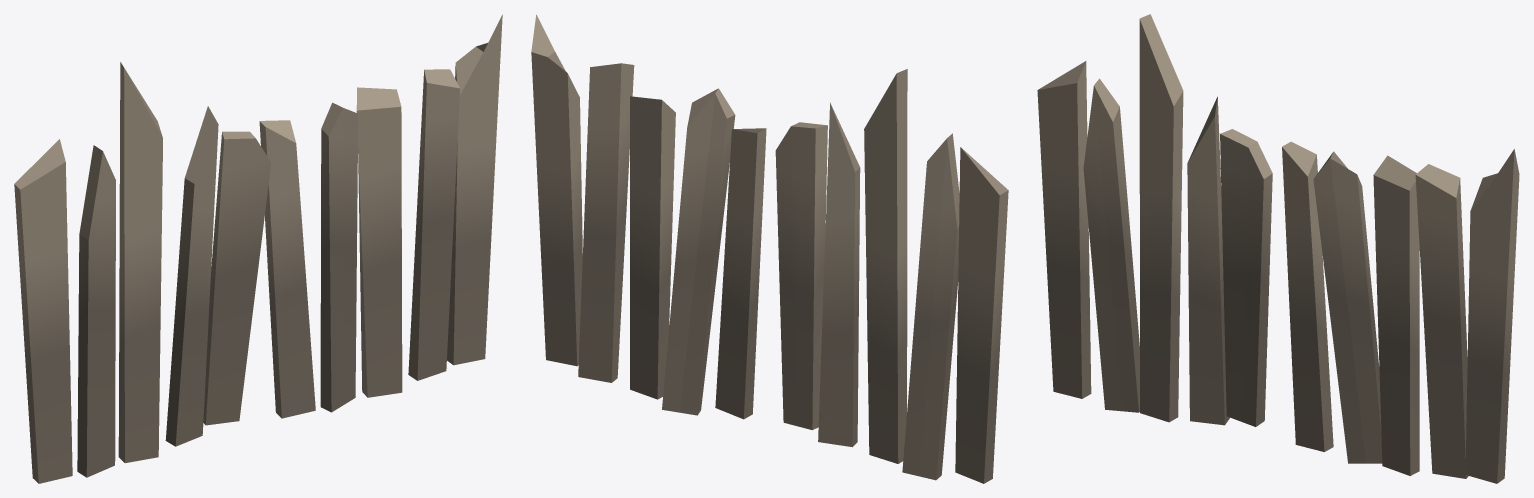
File: Fence Wood V5 2.glb
3 views of the same model, side by side, from view 1: azimuth 30°, elevation 25°; view 2: azimuth 150°, elevation 25°; view 3: azimuth 330°, elevation 25° (orthographic).
Parts seen in each view (by area): view 1: Fence Wood V5 2; view 2: Fence Wood V5 2; view 3: Fence Wood V5 2.
Part boxes in pixels (bbox=[...]): Fence Wood V5 2: bbox=[14, 14, 502, 483]; Fence Wood V5 2: bbox=[531, 14, 1008, 483]; Fence Wood V5 2: bbox=[1037, 14, 1519, 483].
Size of what is drawn, in the model's own units: 2.02 by 1.62 by 0.2138.
1 material, 1 textured.
